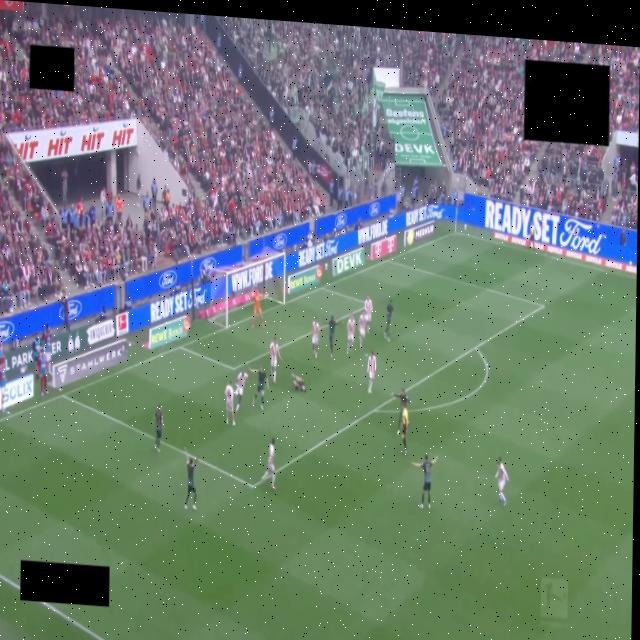player: (412, 455, 438, 508), (392, 389, 410, 435), (250, 367, 269, 410), (184, 449, 197, 510), (261, 439, 275, 491), (495, 457, 508, 506), (235, 371, 248, 413), (270, 338, 281, 383), (153, 404, 163, 452), (252, 290, 264, 329), (225, 381, 235, 425), (367, 351, 376, 394), (384, 300, 393, 341), (329, 315, 337, 358), (347, 315, 355, 354), (364, 296, 372, 333), (312, 317, 319, 359), (359, 312, 367, 348), (292, 374, 306, 392), (527, 225, 535, 247)
referee: (401, 407, 408, 454)
